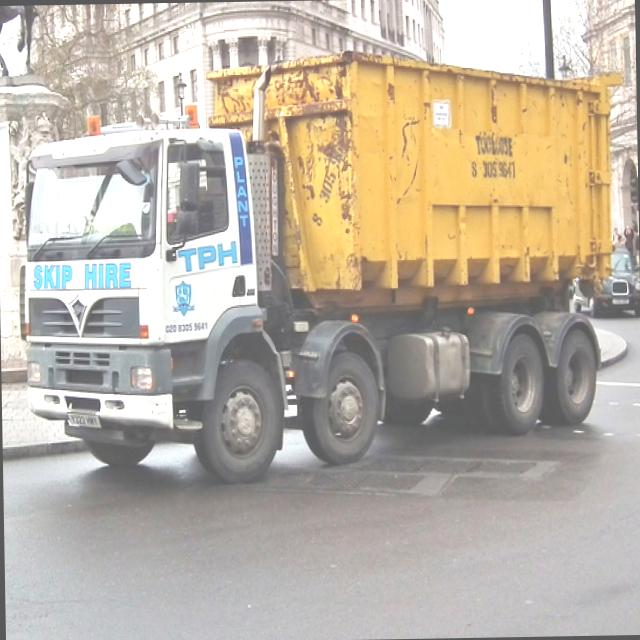Vehicle: (21, 44, 630, 486), (569, 242, 640, 318)
